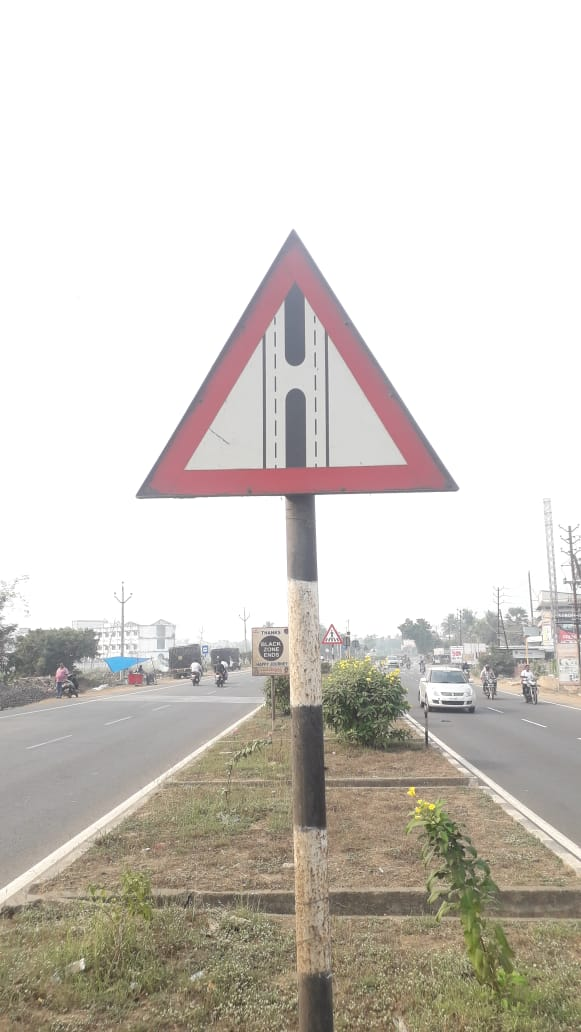highway go straight: (109, 185, 460, 555)
